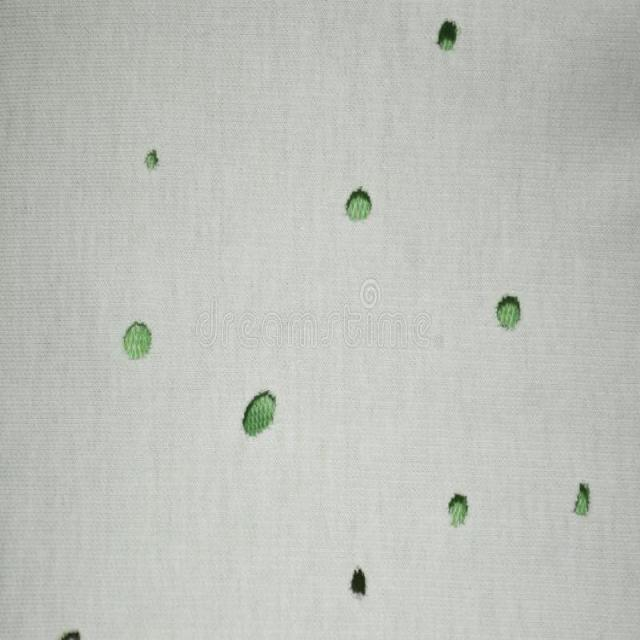Hole: (244, 392, 276, 436), (123, 322, 152, 360), (346, 188, 373, 220), (498, 296, 522, 330), (449, 495, 469, 528), (438, 20, 459, 50), (575, 484, 592, 517), (351, 570, 366, 596), (144, 149, 158, 170), (60, 632, 81, 640)
